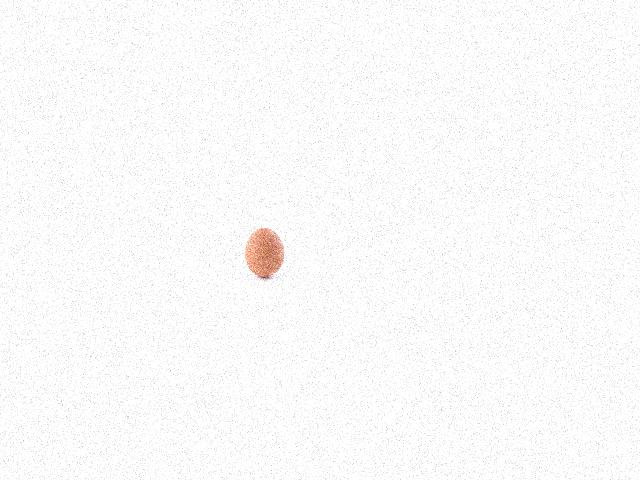egg: (245, 227, 285, 277)
